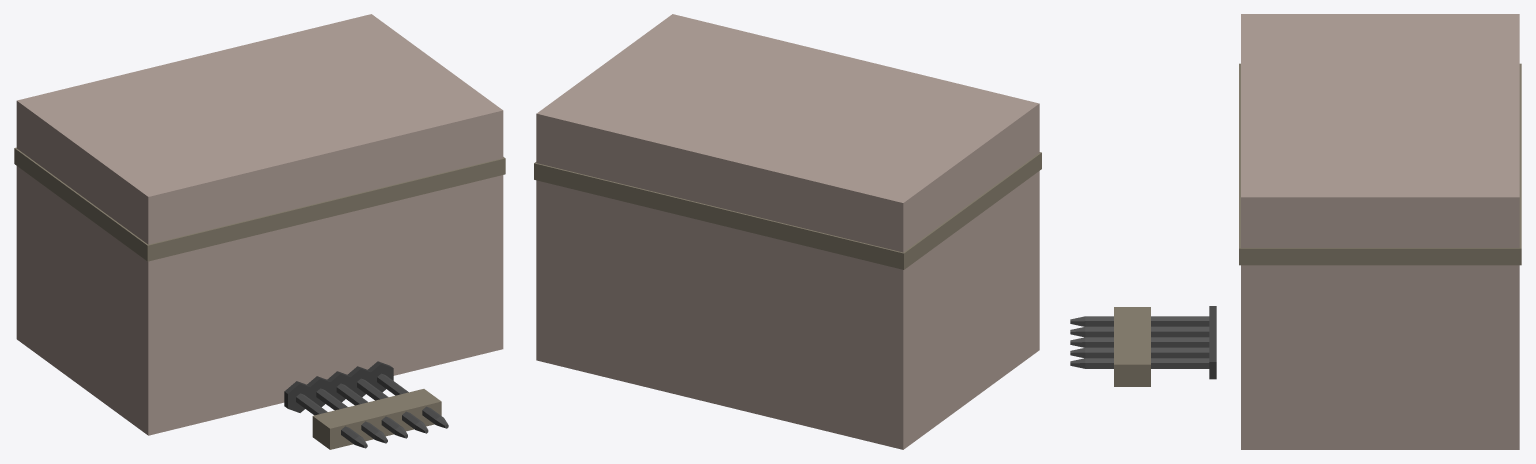
Rendered from ce_ammo2_nail_std_c.obj.
3 renders of one model, left to right at view 1: azimuth 30°, elevation 25°; view 2: azimuth 150°, elevation 25°; view 3: azimuth 270°, elevation 25°, orthographic. The views are drawn at different scales.
Parts seen in each view (by area): view 1: ce_ammo2_nail_std_c_0, ce_ammo2_nail_std_c_1, ce_ammo2_nail_std_c_17, ce_ammo2_nail_std_c_4, ce_ammo2_nail_std_c_9, ce_ammo2_nail_std_c_3, ce_ammo2_nail_std_c_15, ce_ammo2_nail_std_c_6, ce_ammo2_nail_std_c_12; view 2: ce_ammo2_nail_std_c_0, ce_ammo2_nail_std_c_1; view 3: ce_ammo2_nail_std_c_0, ce_ammo2_nail_std_c_1, ce_ammo2_nail_std_c_17, ce_ammo2_nail_std_c_6, ce_ammo2_nail_std_c_12, ce_ammo2_nail_std_c_3, ce_ammo2_nail_std_c_9, ce_ammo2_nail_std_c_15.
Boxes of the visible parts, x1,y1,x2,y2 form: ce_ammo2_nail_std_c_0: (16,14,503,435); ce_ammo2_nail_std_c_1: (14,147,505,261); ce_ammo2_nail_std_c_17: (312,389,441,449); ce_ammo2_nail_std_c_4: (284,381,312,412); ce_ammo2_nail_std_c_9: (336,383,402,434); ce_ammo2_nail_std_c_3: (296,393,362,444); ce_ammo2_nail_std_c_15: (377,373,443,424); ce_ammo2_nail_std_c_6: (316,388,382,439); ce_ammo2_nail_std_c_12: (357,378,422,429); ce_ammo2_nail_std_c_0: (536,14,1039,449); ce_ammo2_nail_std_c_1: (534,152,1041,269); ce_ammo2_nail_std_c_0: (1241,14,1519,449); ce_ammo2_nail_std_c_1: (1239,63,1521,265); ce_ammo2_nail_std_c_17: (1114,307,1150,386); ce_ammo2_nail_std_c_6: (1085,326,1209,337); ce_ammo2_nail_std_c_12: (1085,347,1209,358); ce_ammo2_nail_std_c_3: (1085,316,1209,326); ce_ammo2_nail_std_c_9: (1085,337,1209,347); ce_ammo2_nail_std_c_15: (1085,358,1209,368).
Size of the model in its own units: 0.706 by 0.45 by 0.728.
